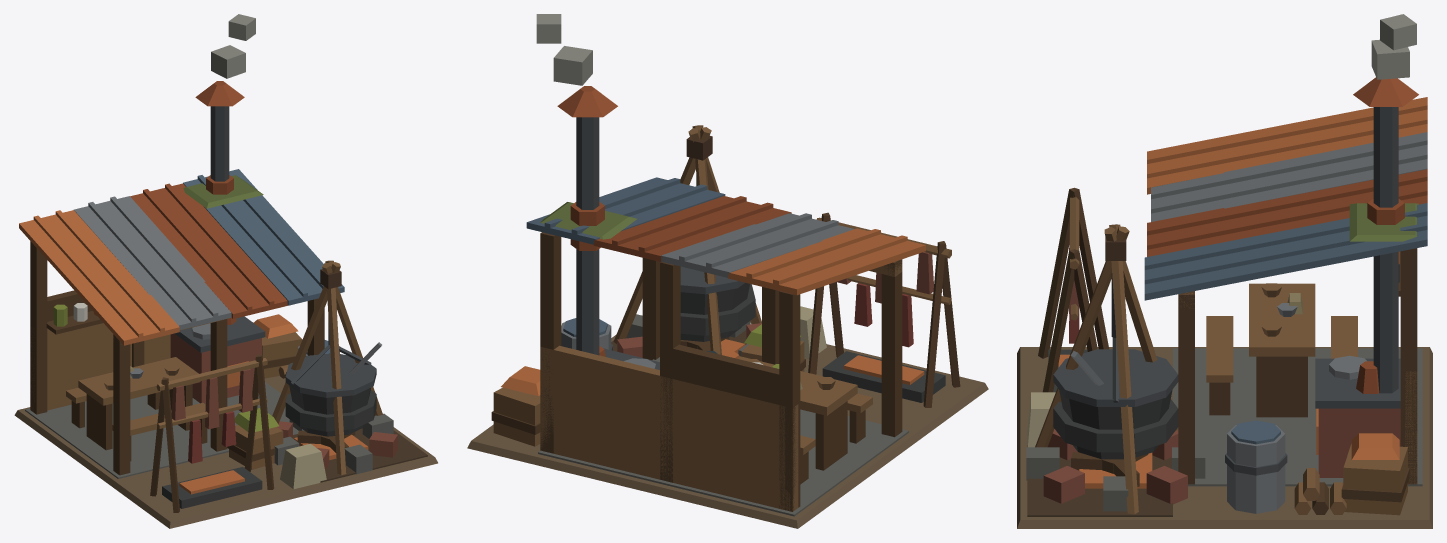
File: kitchen_l1.glb
3 views of the same model, side by side, from view 1: azimuth 30°, elevation 25°; view 2: azimuth 150°, elevation 25°; view 3: azimuth 270°, elevation 25° (orthographic). The views are drawn at different scales.
Parts seen in each view (by area): view 1: kitchen_props, kitchen_roof, kitchen_structure; view 2: kitchen_structure, kitchen_props, kitchen_roof; view 3: kitchen_props, kitchen_roof, kitchen_structure.
Boxes of the visible parts, x1,y1,x2,y2 form: kitchen_props: (46, 14, 397, 512); kitchen_roof: (19, 169, 344, 345); kitchen_structure: (14, 241, 437, 528); kitchen_structure: (467, 232, 988, 528); kitchen_props: (491, 14, 960, 484); kitchen_roof: (526, 177, 925, 295); kitchen_props: (1026, 14, 1418, 515); kitchen_roof: (1144, 97, 1427, 300); kitchen_structure: (1017, 248, 1432, 528).
Bounding box in the file's own units: 4 × 5.01 × 4.
